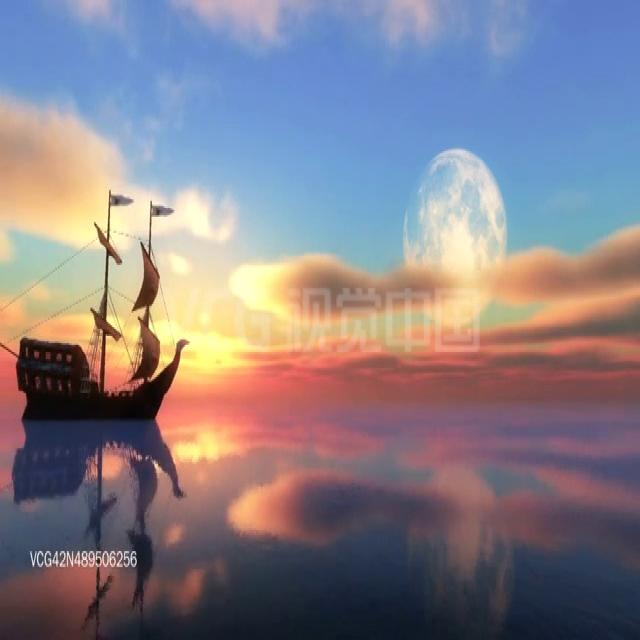sailboat: (4, 175, 190, 417)
